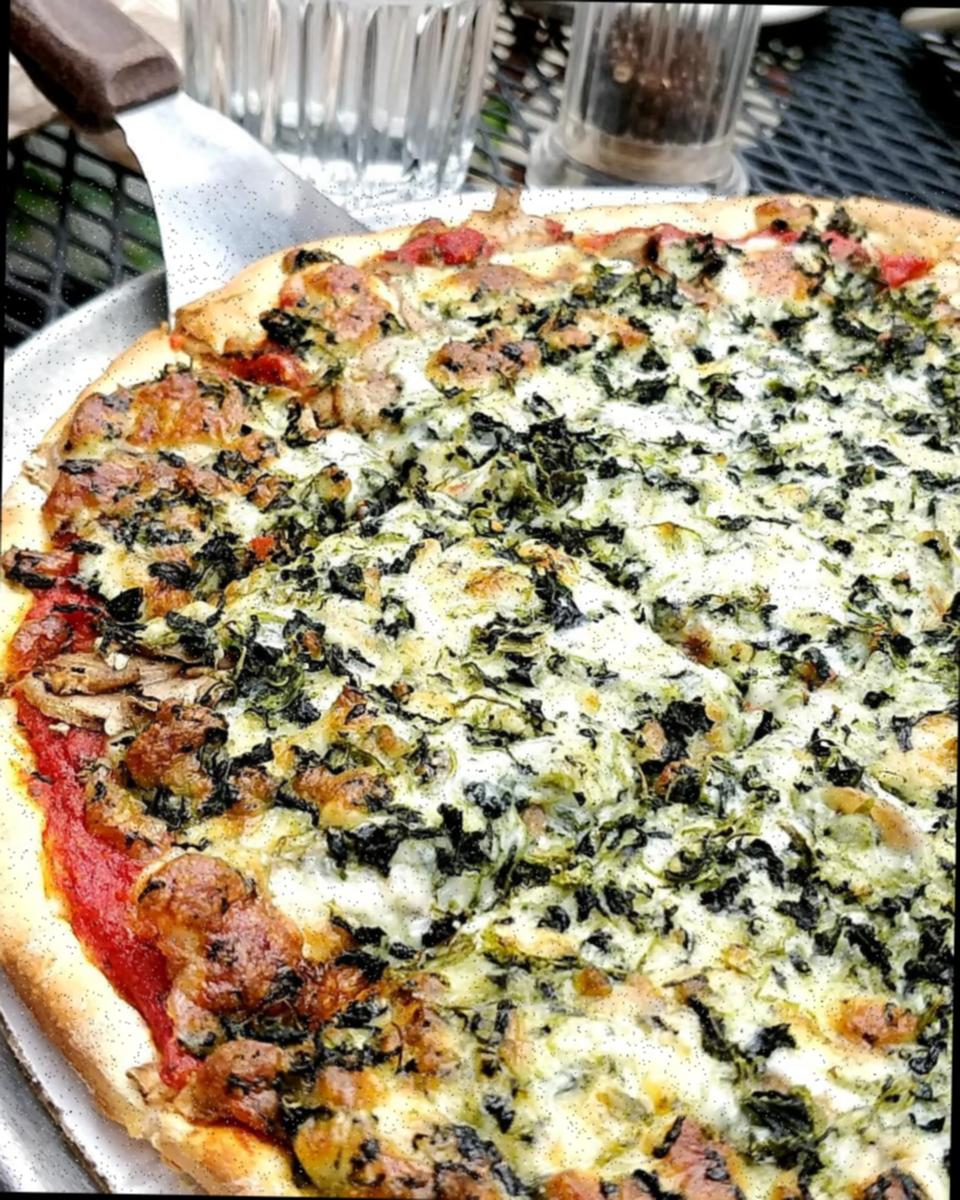Pizza: (0, 176, 960, 1200)
